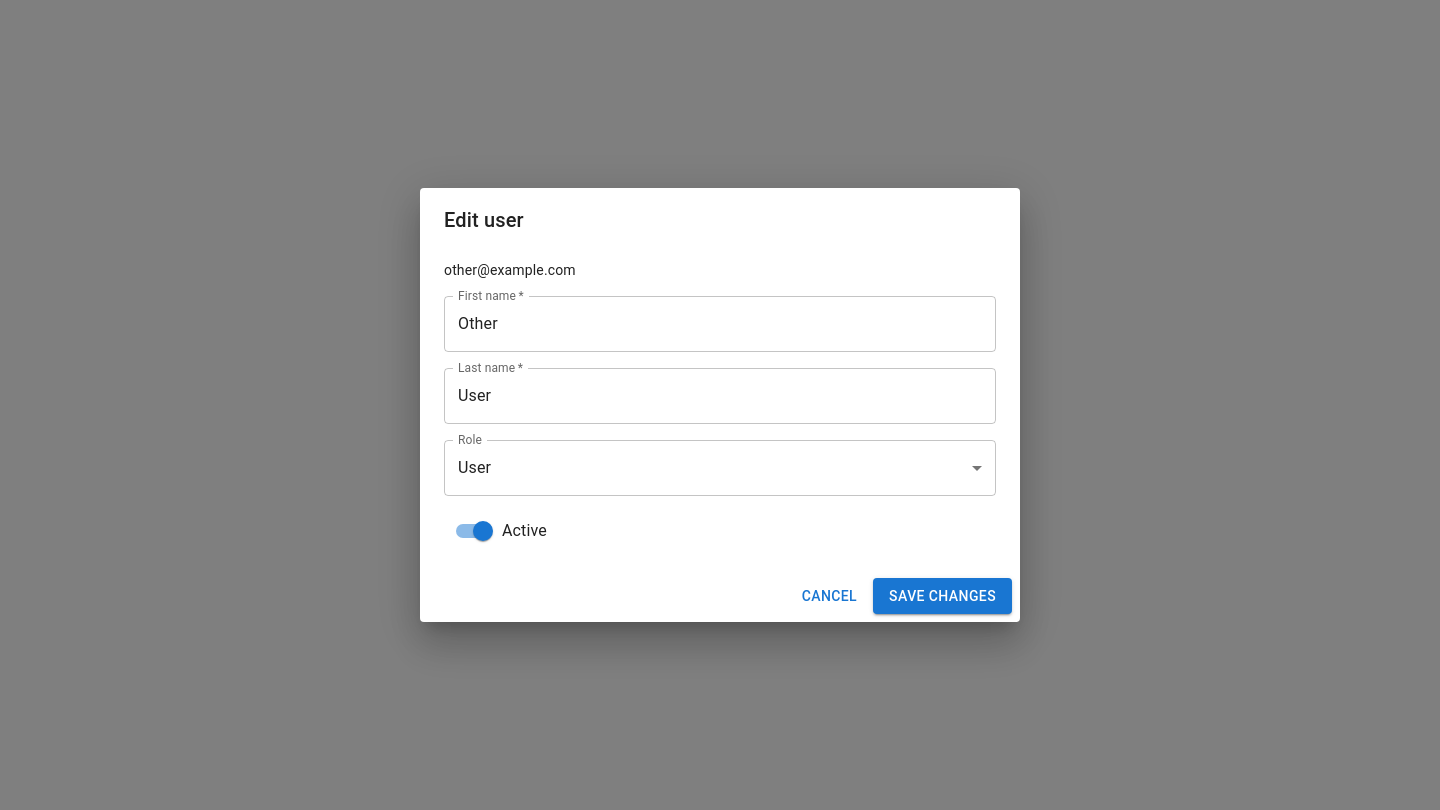
UserEditDialog › shows API error when update fails
Click the button "Save changes" at (943, 596), box [873,578,1012,614]
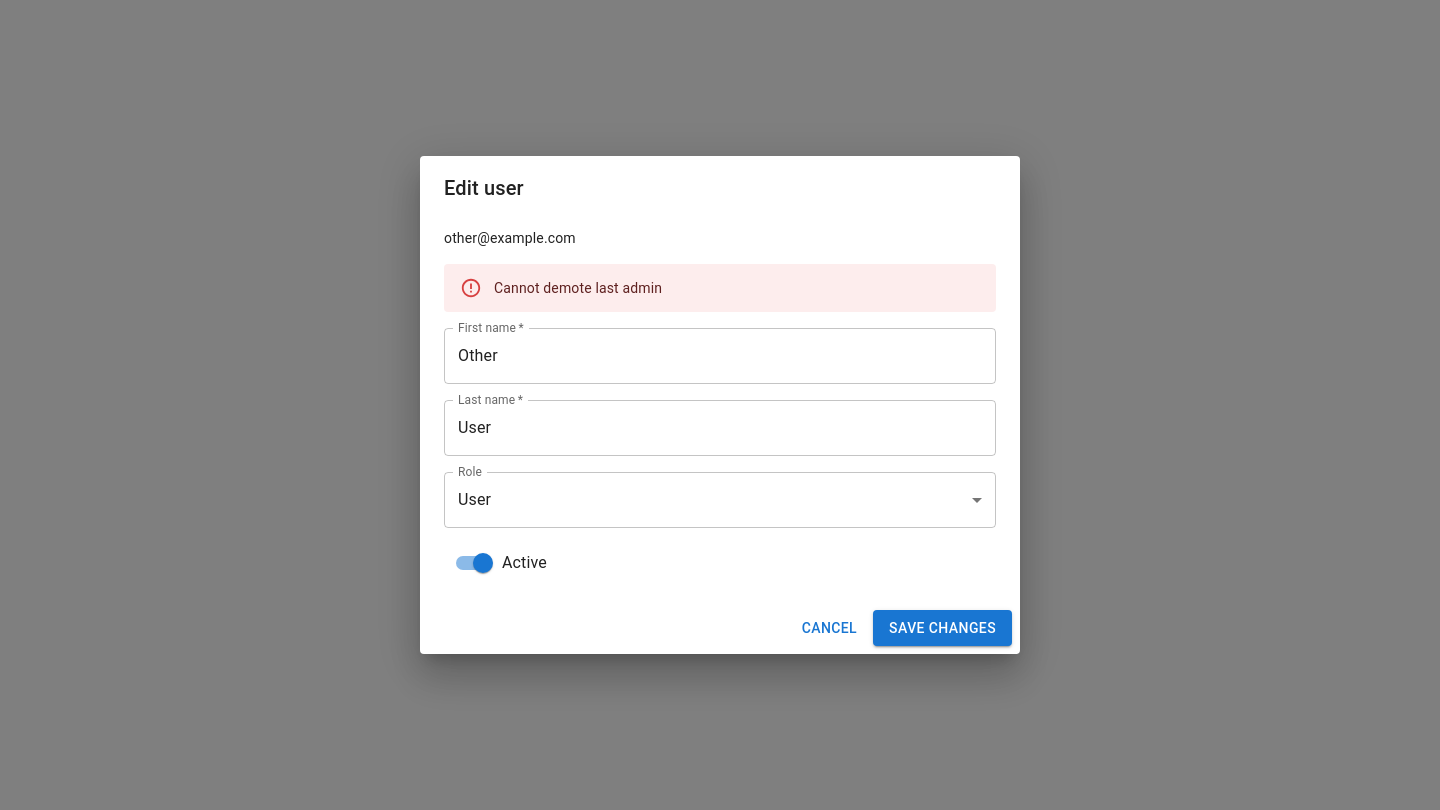
Result: the text "Cannot demote last admin" is shown at [494,280,662,296]
